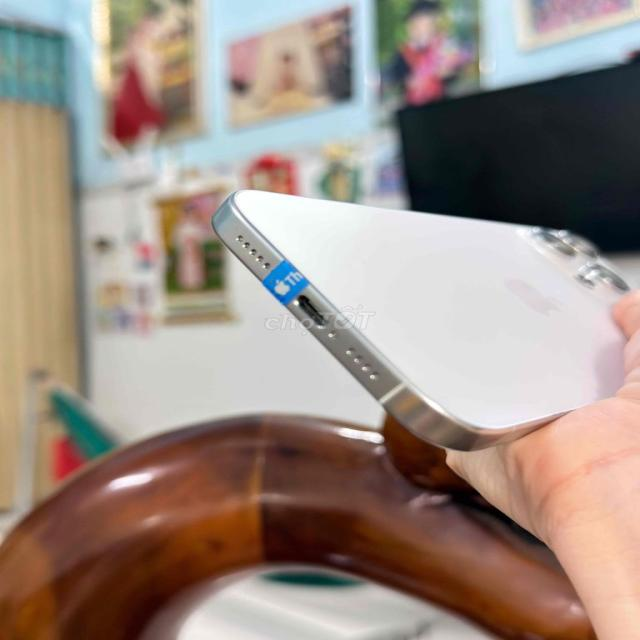gen_16: (212, 190, 634, 450)
